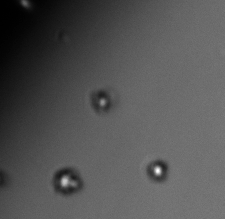Living Cell: (53, 165, 82, 193), (91, 89, 113, 110), (148, 158, 167, 180)
